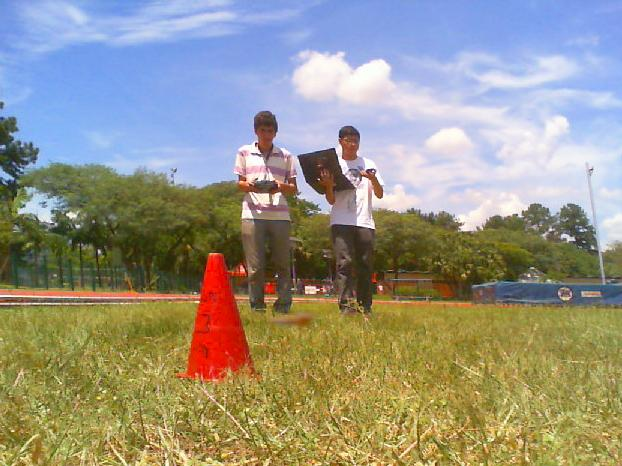0 cone: (176, 254, 261, 385)
